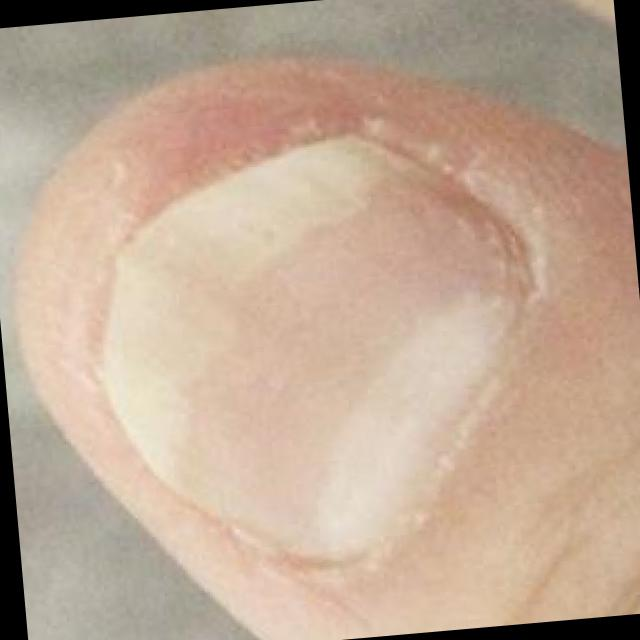Nail: (94, 130, 532, 563)
